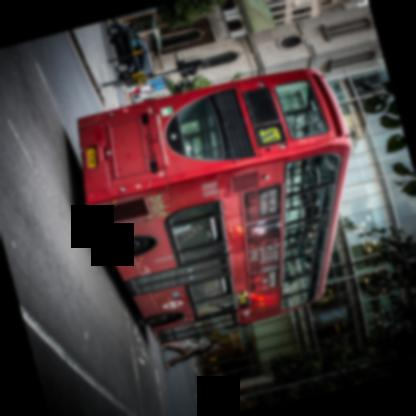handbag: (189, 340, 199, 343)
